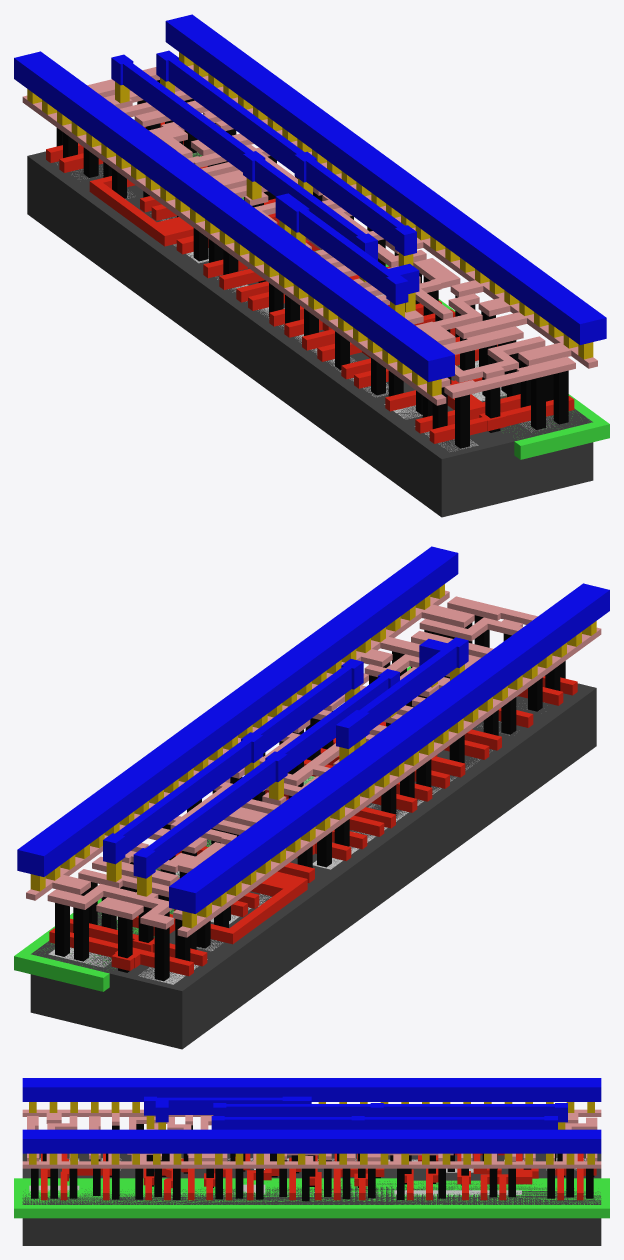
File: sky130_fd_sc_hd__sdfrbp_1.obj
3 views of the same model, one above another, from view 1: azimuth 30°, elevation 25°; view 2: azimuth 150°, elevation 25°; view 3: azimuth 270°, elevation 25° (orthographic). The views are drawn at different scales.
Visible parts, largest first — view 1: metal1, subs, li, poly, licon, mcon, nwell, diff; view 2: metal1, subs, li, poly, licon, mcon, nwell, diff; view 3: metal1, subs, nwell, li, licon, poly, mcon, tap.
Part boxes in pixels (x1,y1,x2,y2): metal1: (14,14,606,381); subs: (27,144,593,517); li: (22,65,597,405); poly: (46,122,574,443); licon: (56,80,568,448); mcon: (27,52,593,396); nwell: (192,152,609,459); diff: (57,164,478,451); metal1: (17,546,609,913); subs: (30,683,596,1049); li: (26,590,601,937); poly: (49,676,577,976); licon: (55,615,565,981); mcon: (30,584,596,928); nwell: (14,666,410,991); diff: (138,709,527,984); metal1: (22,1078,601,1153); subs: (22,1153,601,1245); nwell: (14,1178,609,1218); li: (22,1109,601,1168); licon: (31,1124,594,1201); poly: (40,1153,596,1200); mcon: (29,1102,594,1164); tap: (29,1184,521,1196).
Bounding box in the file's own units: 3.2 × 2.74 × 13.26.
